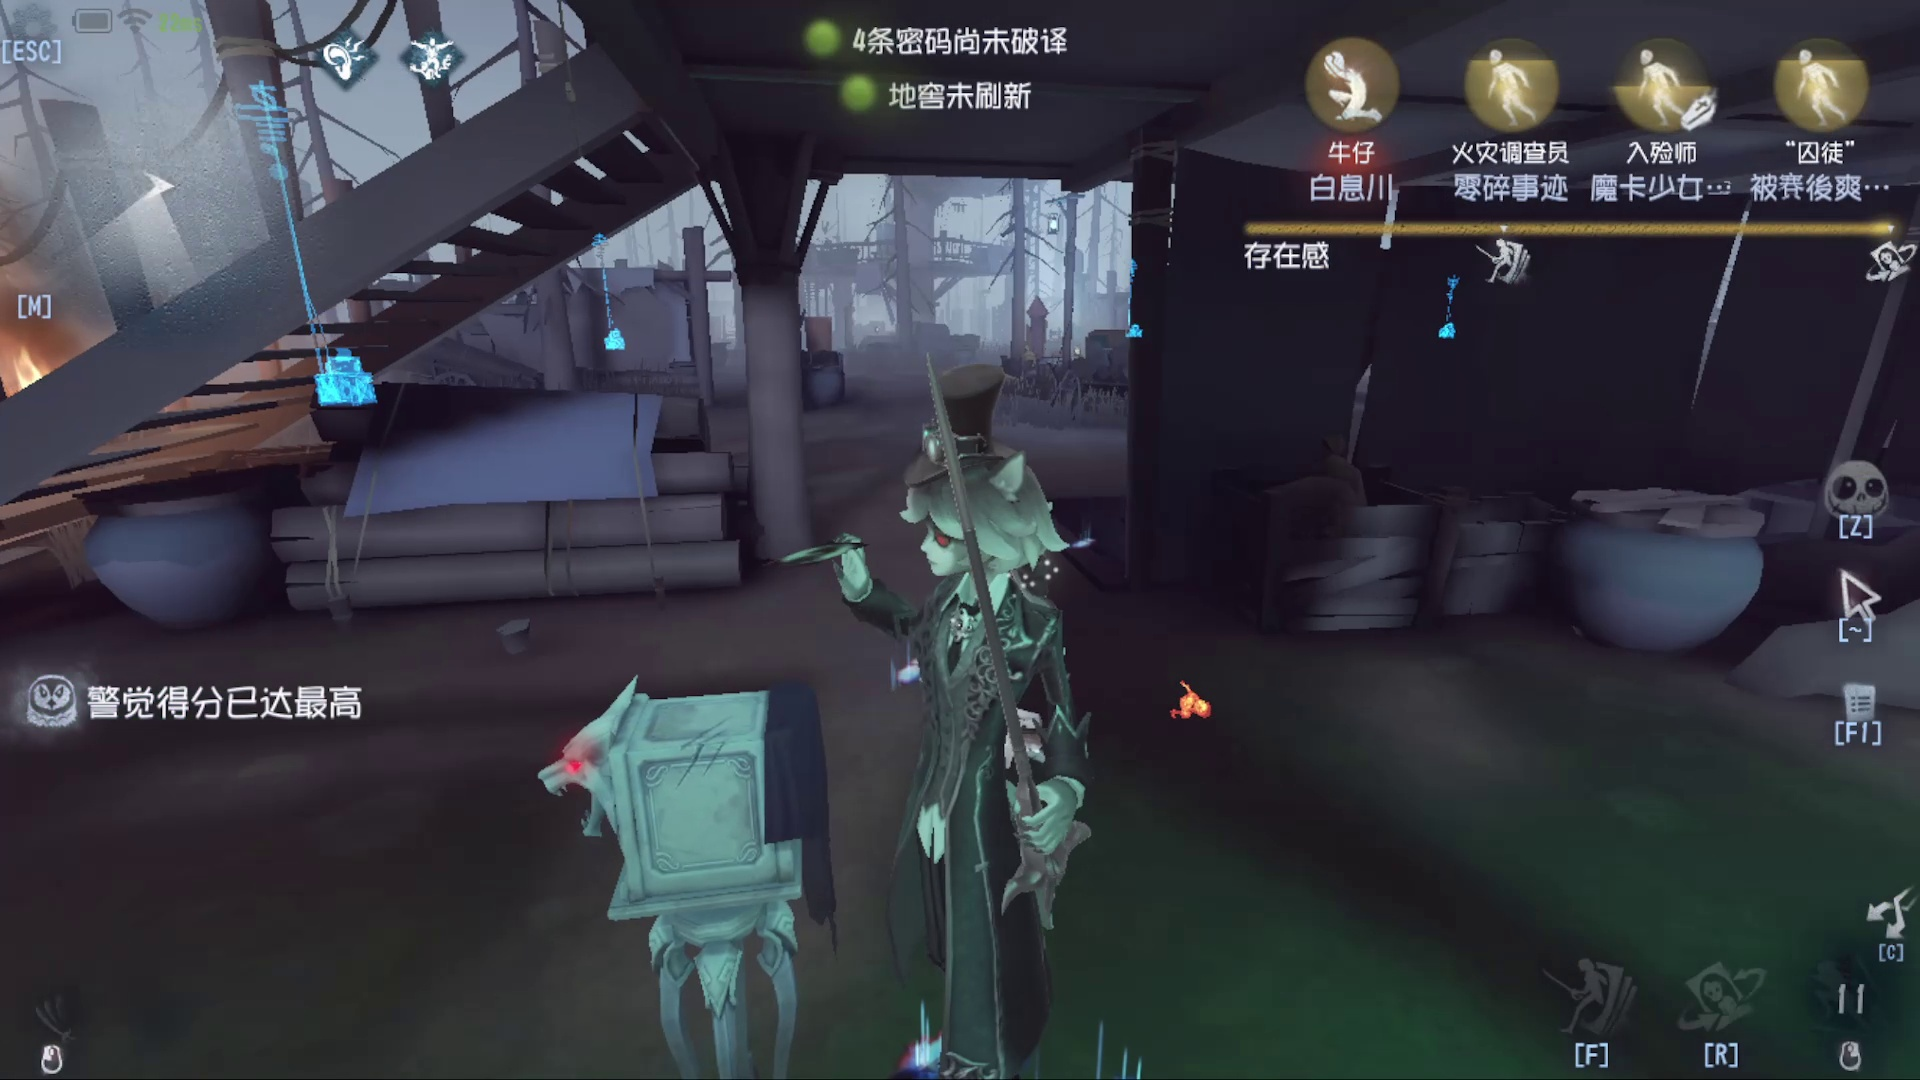密码机: (179, 36, 413, 429)
求生者: (1151, 653, 1225, 756)
狂欢之椅: (969, 266, 1060, 369)
